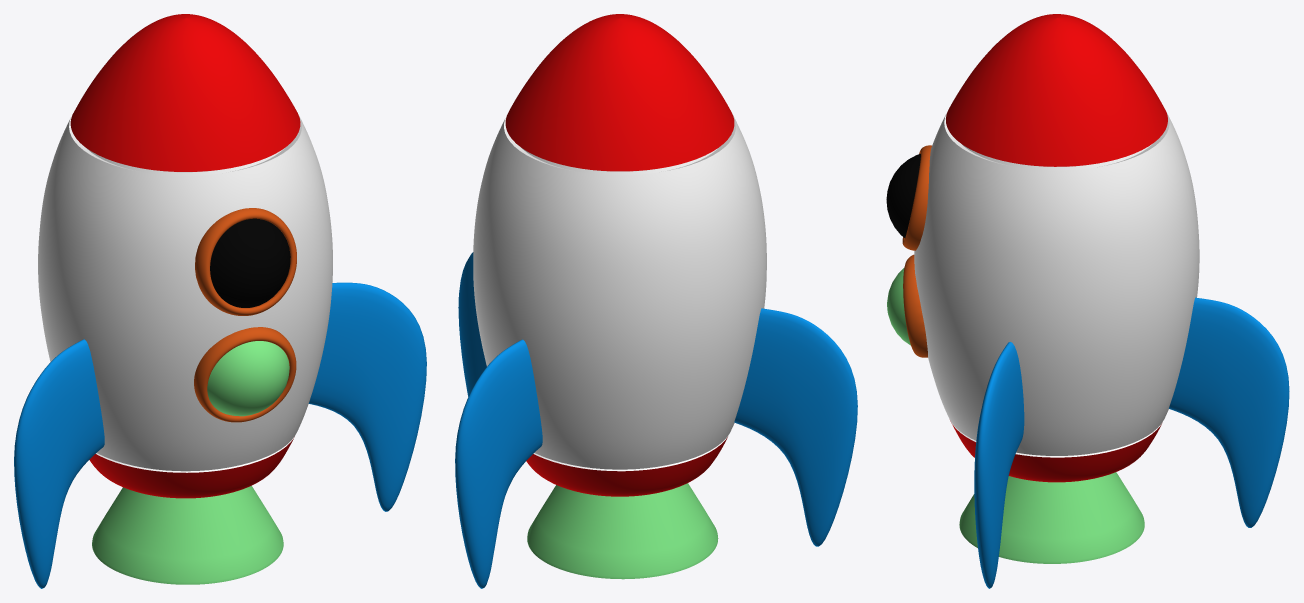
Rendered from rocket2.fbx.
3 renders of one model, left to right at view 1: azimuth 30°, elevation 25°; view 2: azimuth 150°, elevation 25°; view 3: azimuth 270°, elevation 25°, orthographic. The views are drawn at different scales.
Visible parts, largest first — view 1: BezierCurve.002; view 2: BezierCurve.002; view 3: BezierCurve.002.
Boxes of the visible parts, <box> form: BezierCurve.002: <box>14,14,426,588</box>; BezierCurve.002: <box>455,14,857,588</box>; BezierCurve.002: <box>886,14,1289,588</box>.
Size of the model in its own units: 285 by 352 by 253.
